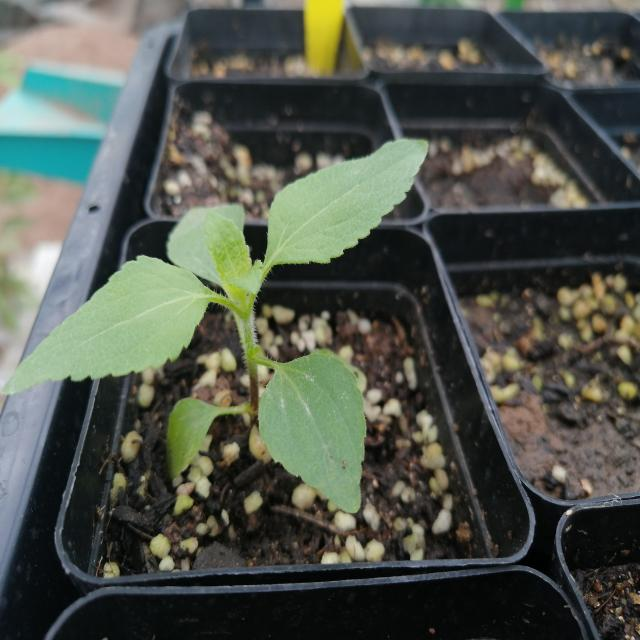billygoat_weed: (35, 96, 409, 492)
